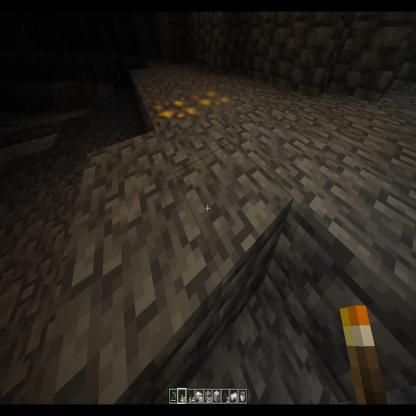gold ore: (146, 93, 203, 130), (185, 87, 233, 114)
